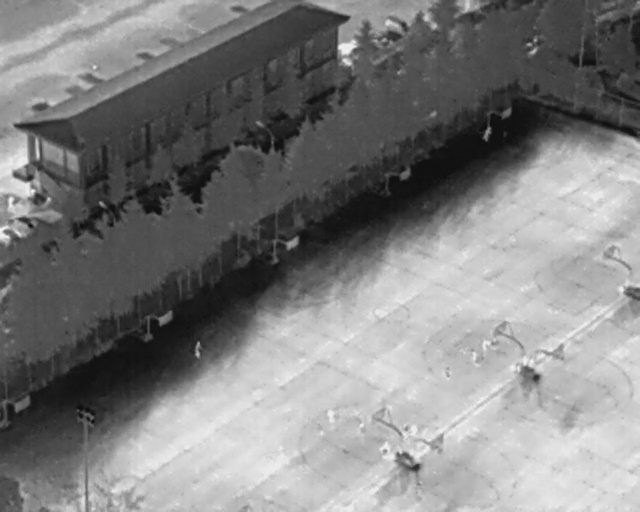Car: (5, 205, 39, 239), (0, 224, 19, 246)
Person: (480, 125, 493, 144), (378, 440, 391, 458), (192, 341, 202, 360), (469, 349, 480, 366), (407, 422, 419, 437), (5, 195, 15, 212), (325, 409, 337, 423), (315, 425, 326, 438), (483, 337, 491, 352), (357, 420, 366, 433), (443, 366, 451, 379), (492, 337, 499, 350), (402, 424, 410, 435)
